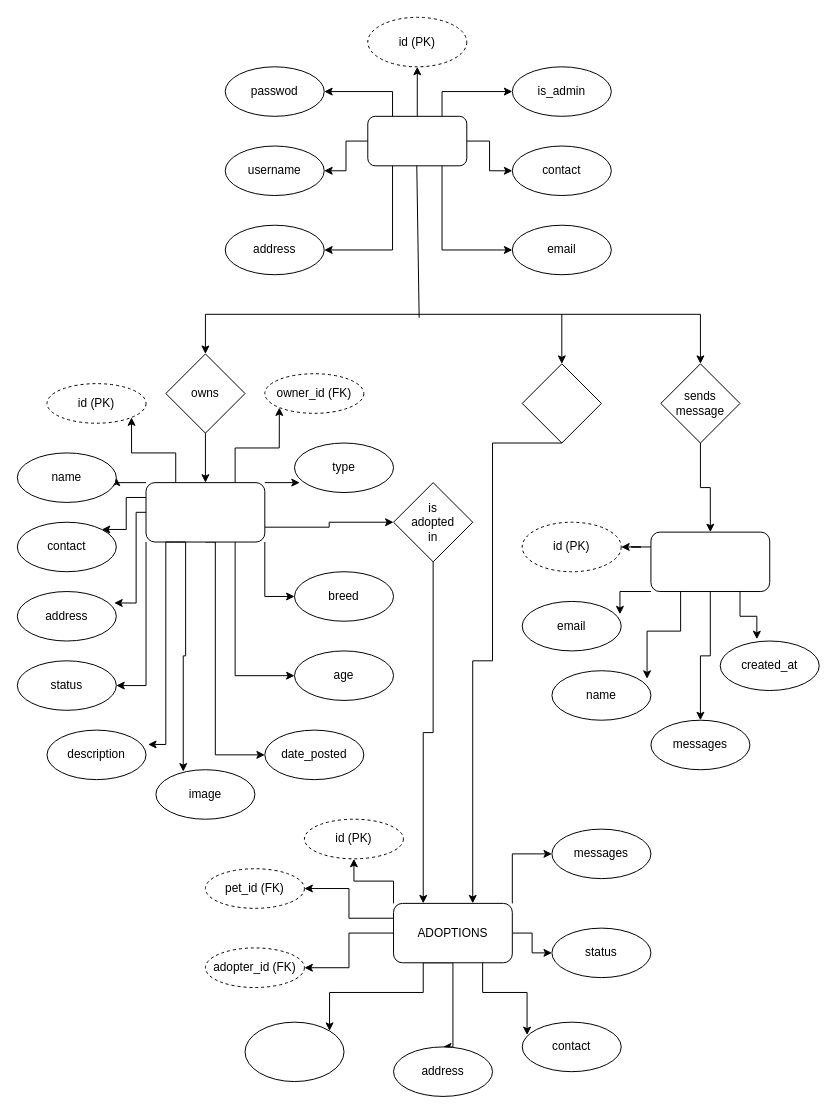
Some shapes in this 837 by 1114 pixel diagram are drawn without their labels. The shapes that lost their labels are listed below. From the top down, each one's box as (x1, y1, x2, y2) in pixels, then its label:
(367, 115, 467, 166): USERS
(521, 363, 601, 443): adopts
(145, 482, 265, 542): PETS
(650, 531, 770, 592): CONTACT MESSAGES
(244, 1021, 344, 1082): date_approved
